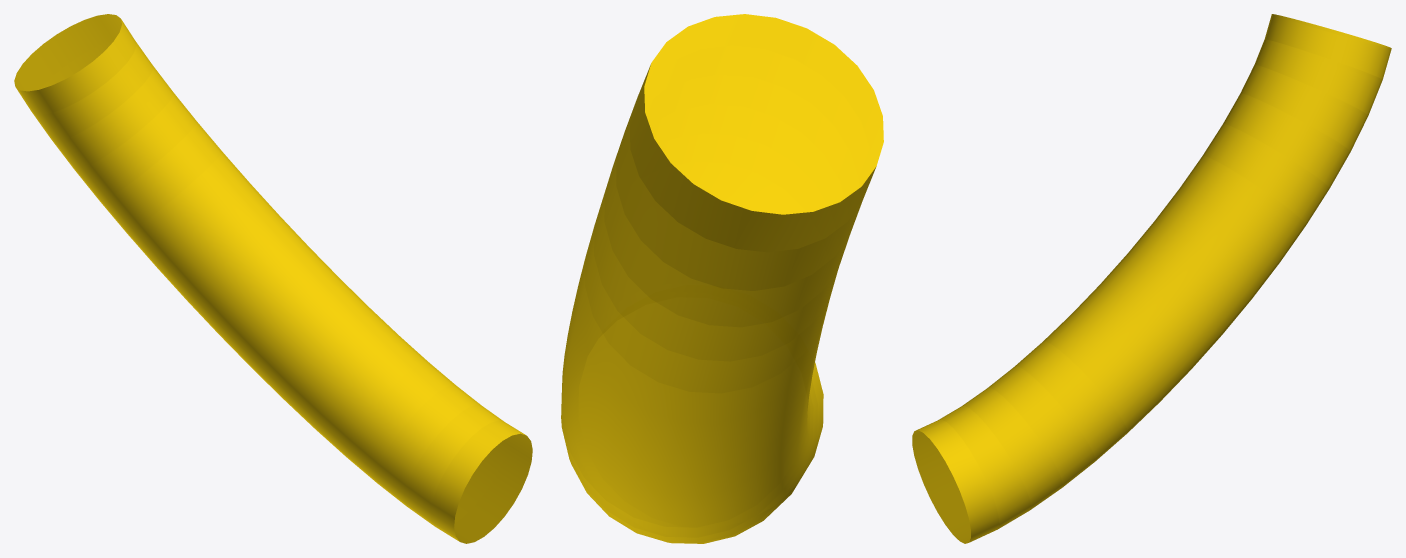
Rendered from Event_420094457_track_77.fbx.
3 renders of one model, left to right at view 1: azimuth 30°, elevation 25°; view 2: azimuth 150°, elevation 25°; view 3: azimuth 270°, elevation 25°, orthographic. The views are drawn at different scales.
Parts seen in each view (by area): view 1: Model; view 2: Model; view 3: Model.
Part boxes in pixels (x1,y1,x2,y2): Model: [14, 14, 532, 543]; Model: [561, 14, 883, 543]; Model: [912, 14, 1391, 543].
Size of the model in its own units: 0.1203 by 0.1515 by 0.1537.
